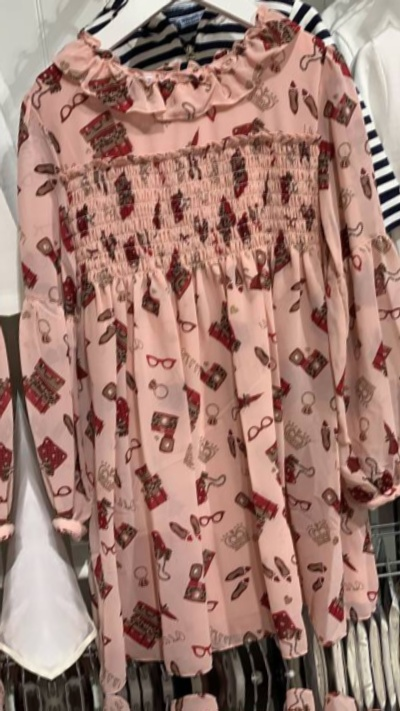Dress: (0, 0, 400, 677), (0, 46, 30, 711), (77, 678, 400, 711), (397, 0, 400, 630)
